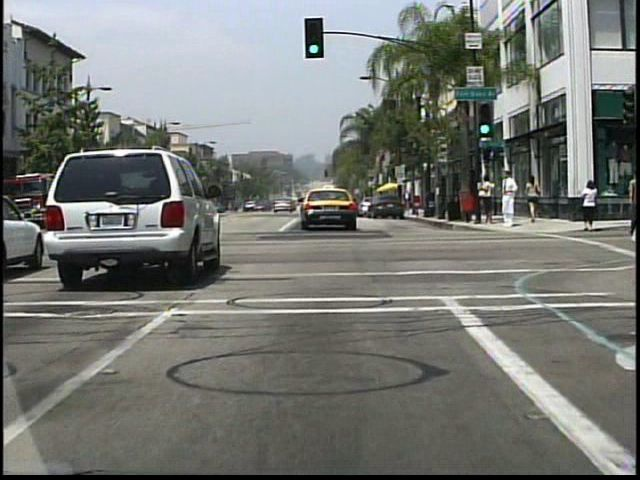person: (613, 168, 637, 231), (499, 171, 519, 229), (581, 179, 600, 232), (526, 174, 543, 225), (480, 172, 495, 227), (403, 190, 413, 214)
